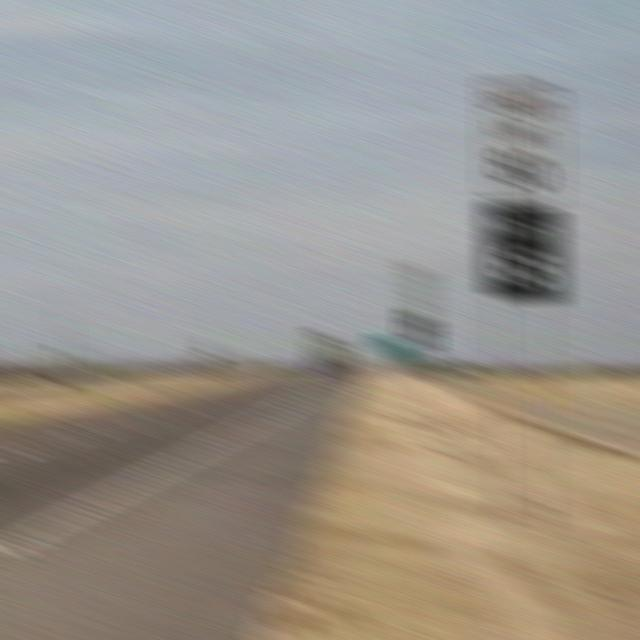speedLimit80: (482, 65, 556, 204)
